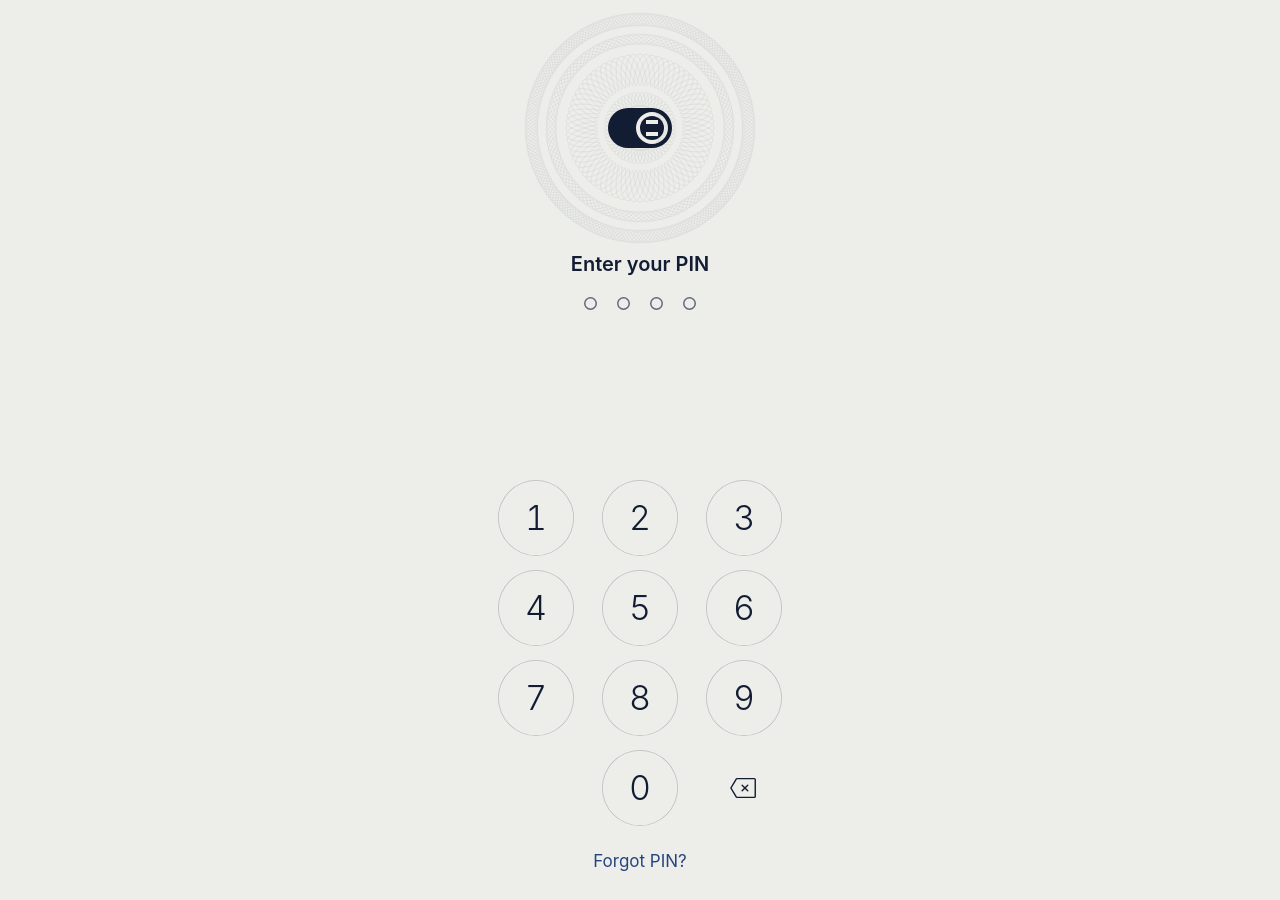
Test: PIN entry (docs/SPEC.md §3.8) › says it could not check the PIN when the attempt cannot be saved
Click the button with test id "keypad-1": point(536, 518) [498,480,574,556]
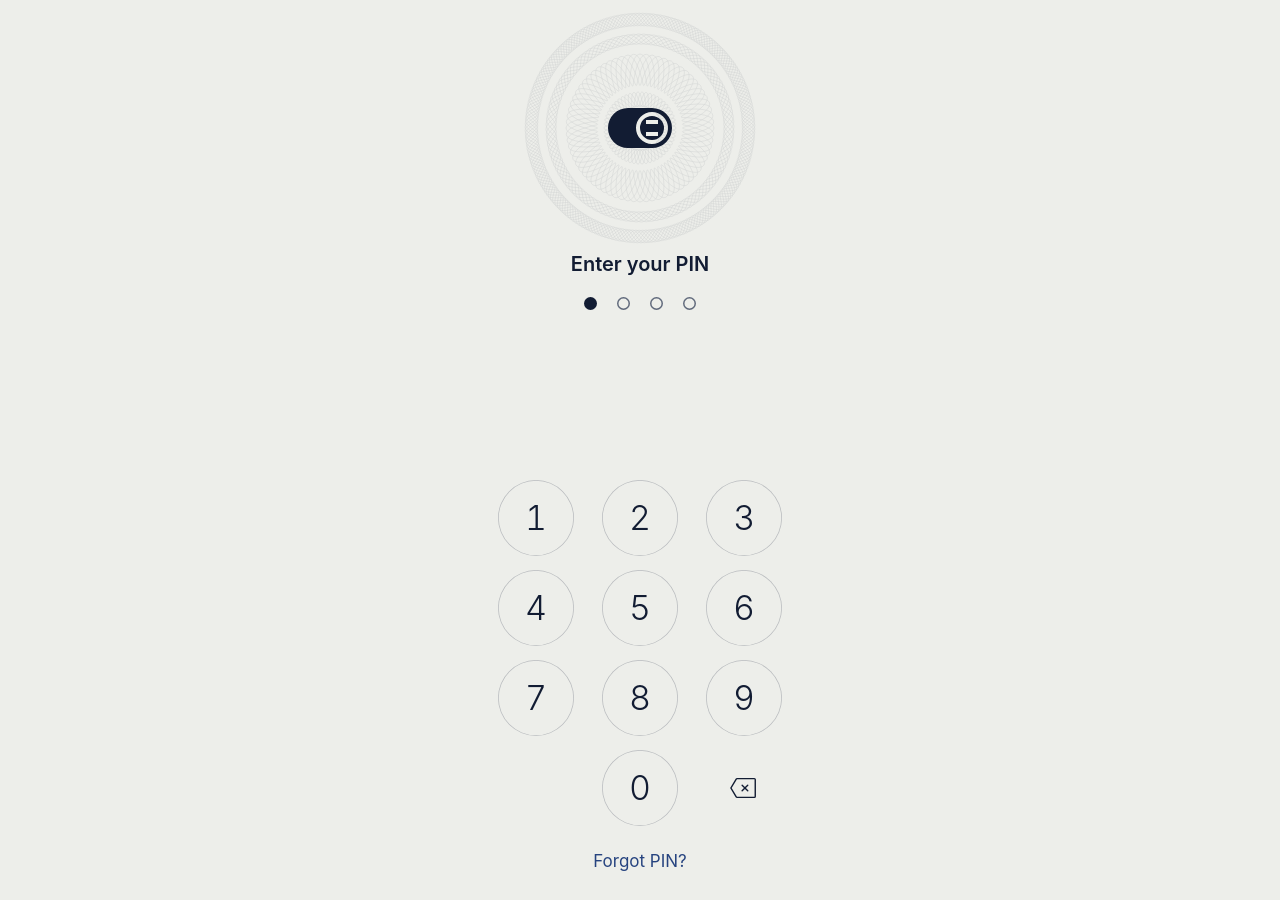
Click the button "2": point(640, 518) [602,480,678,556]
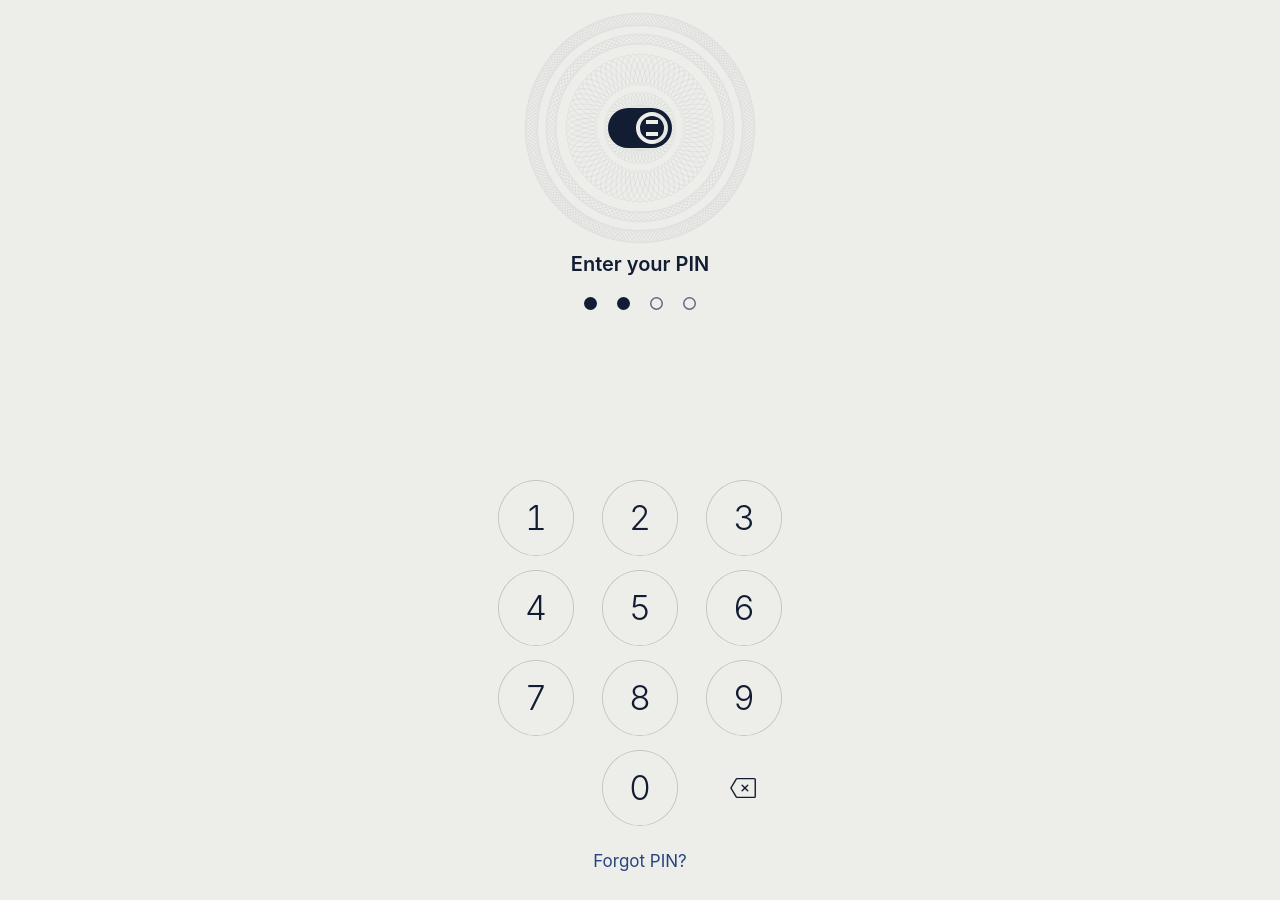
Click the button "3": point(744, 518) [706,480,782,556]
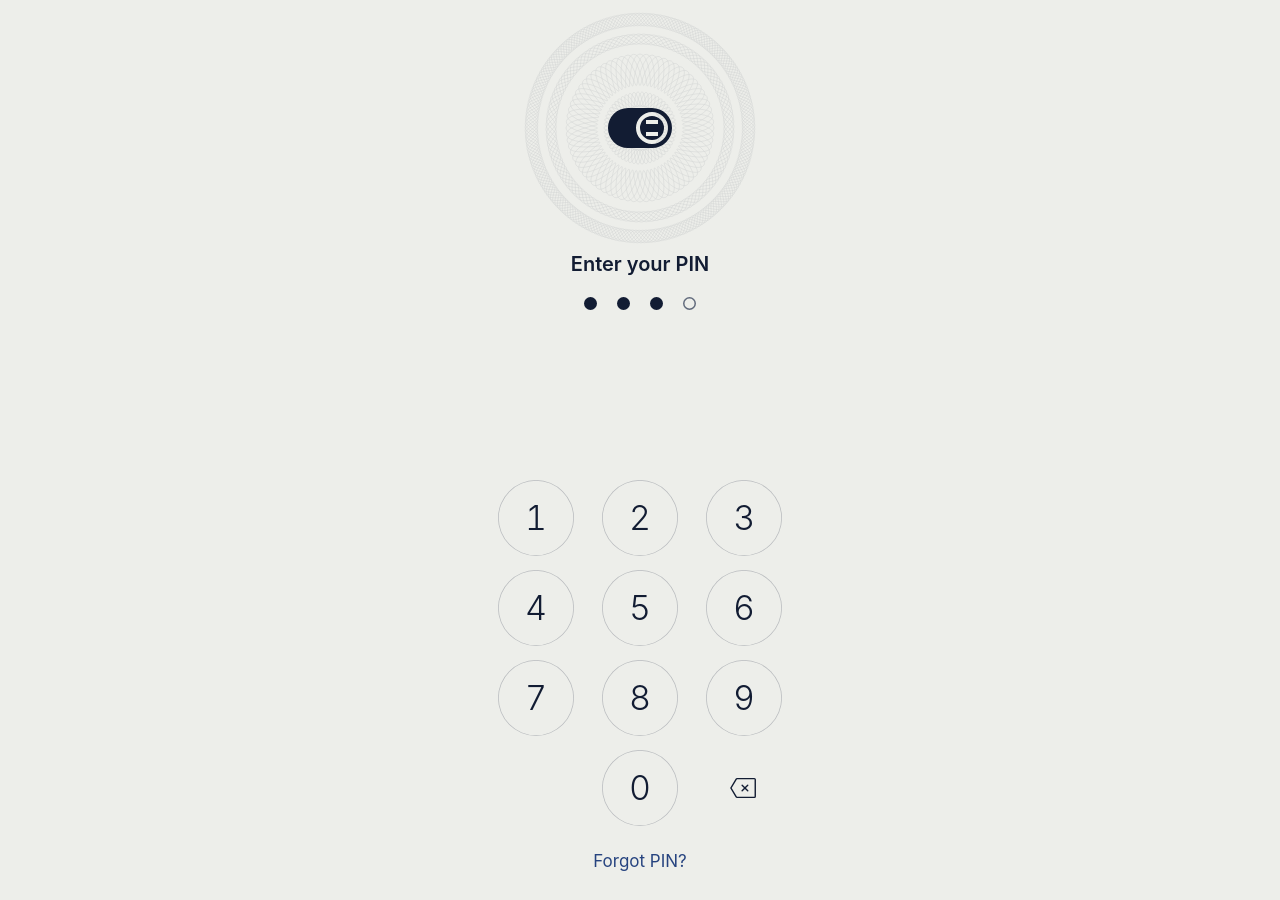
Click the button "4": point(536, 608) [498,570,574,646]
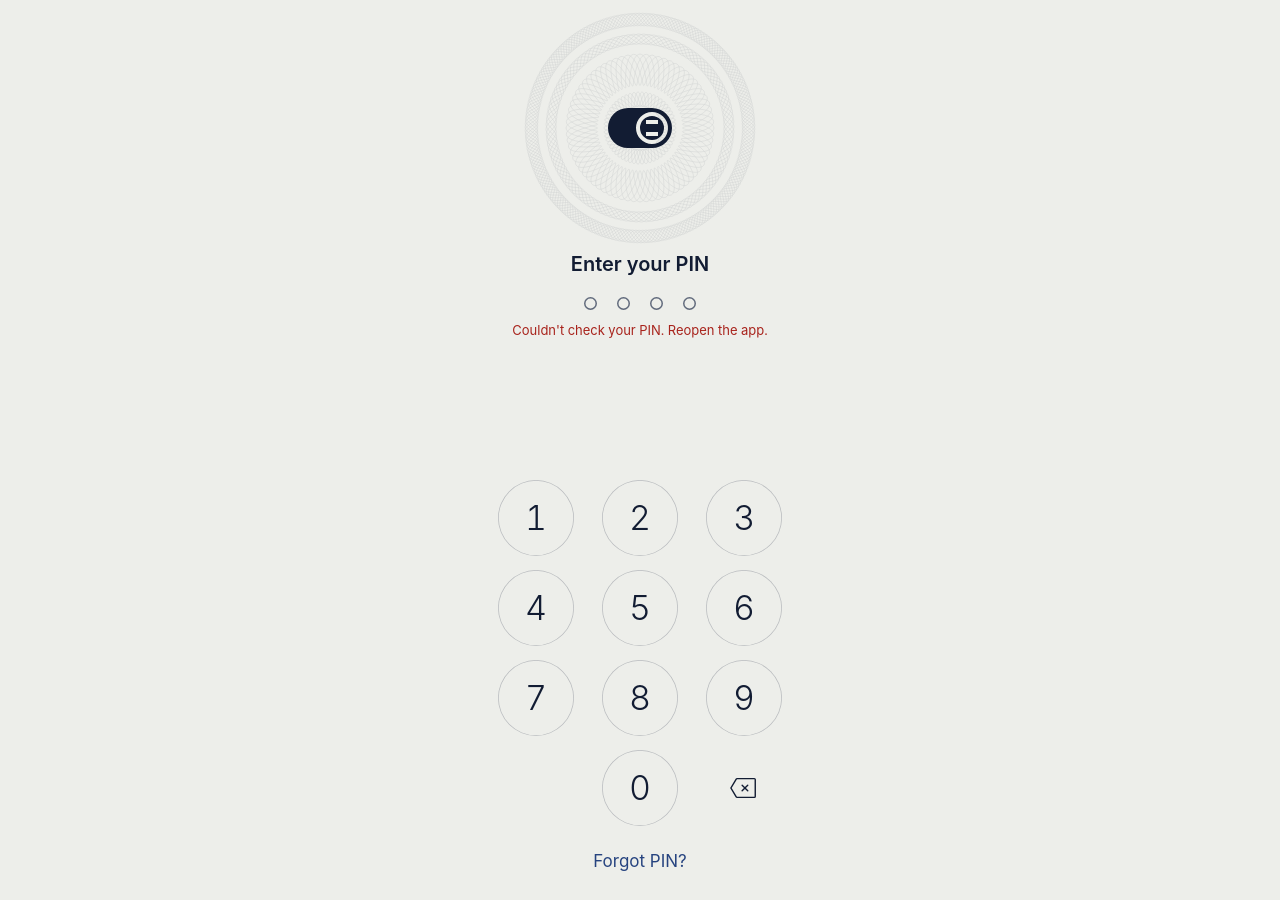
Now the text "Couldn't check your PIN. Reopen the app." is shown, box [512,322,768,340]
